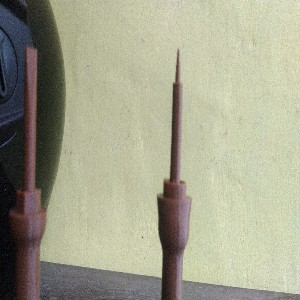obeng: (10, 45, 47, 300)
solder: (156, 46, 193, 300)
